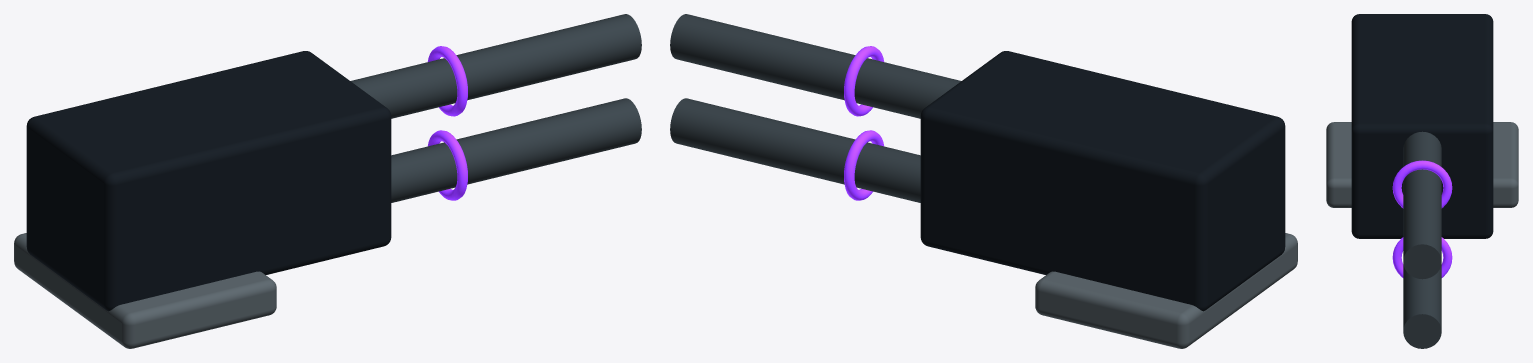
3 views of the same model, side by side, from view 1: azimuth 30°, elevation 25°; view 2: azimuth 150°, elevation 25°; view 3: azimuth 270°, elevation 25° (orthographic). The views are drawn at different scales.
Size of the model in its own units: 5.33 by 1.53 by 1.9.
